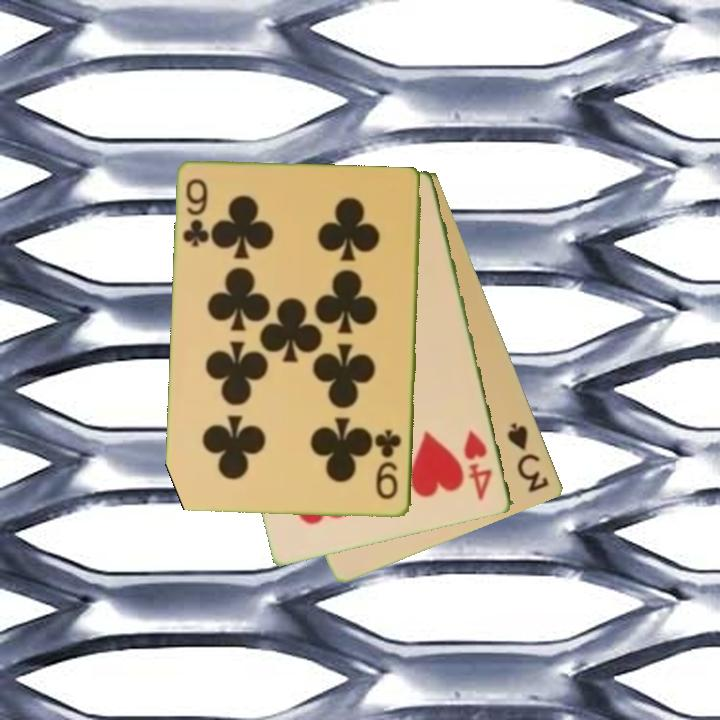3s: (504, 419, 552, 496)
4h: (461, 426, 496, 503)
9c: (179, 175, 213, 250), (374, 426, 405, 503)
